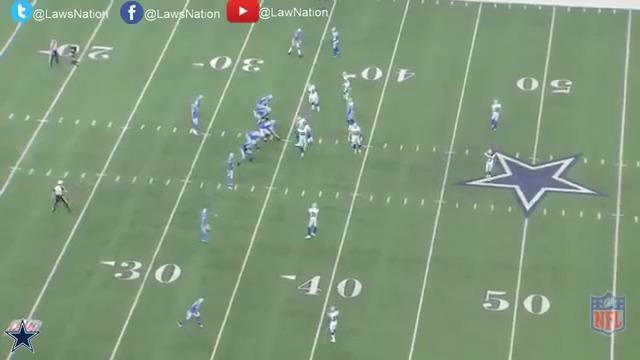defense: (302, 199, 320, 241), (322, 304, 340, 345), (482, 144, 502, 180), (346, 121, 366, 156), (295, 119, 312, 159), (487, 98, 504, 136), (292, 114, 309, 147), (327, 26, 343, 61), (304, 81, 320, 115), (344, 99, 358, 129), (341, 72, 355, 101)
oline: (237, 137, 259, 168), (243, 127, 268, 151), (259, 119, 280, 143), (253, 106, 272, 126), (254, 94, 275, 110)
qb: (187, 95, 202, 137)
ref: (51, 177, 73, 216), (49, 38, 64, 69)
skill: (174, 296, 206, 332), (223, 150, 240, 193), (197, 205, 214, 248), (285, 26, 305, 59)
